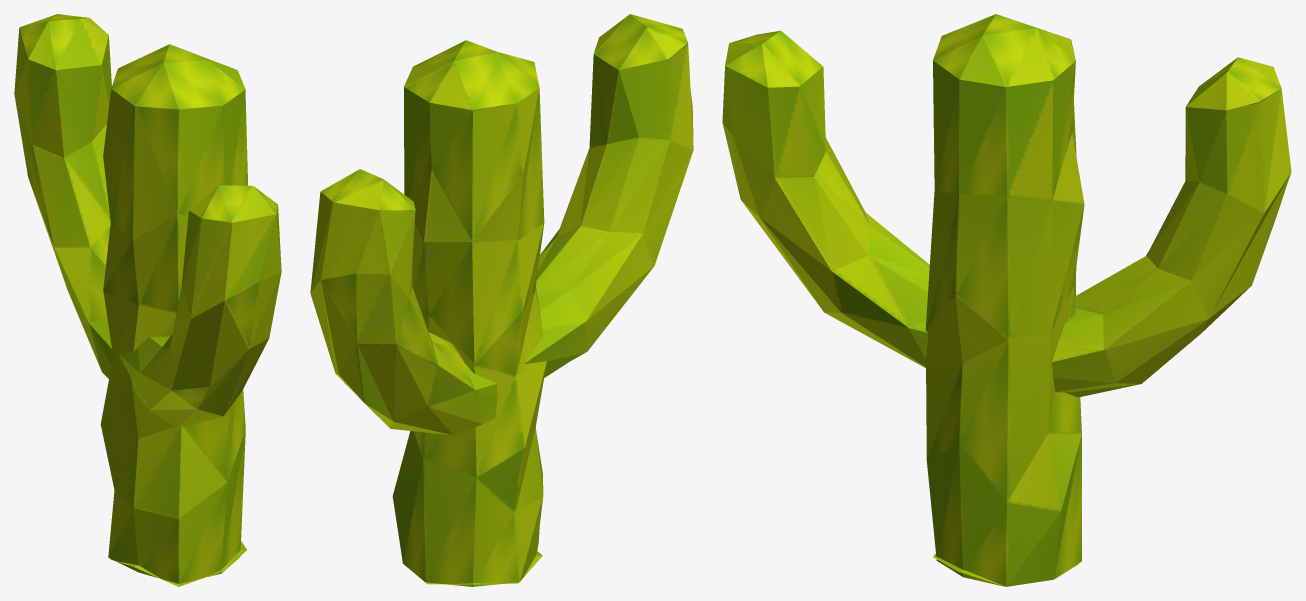
File: kaktus1.fbx
3 renders of one model, left to right at view 1: azimuth 30°, elevation 25°; view 2: azimuth 150°, elevation 25°; view 3: azimuth 270°, elevation 25°, orthographic. The views are drawn at different scales.
Visible parts, largest first — view 1: kaktus1_1; view 2: kaktus1_1; view 3: kaktus1_1.
Boxes of the visible parts, bbox=[...] form: kaktus1_1: bbox=[14, 14, 281, 586]; kaktus1_1: bbox=[310, 14, 693, 586]; kaktus1_1: bbox=[722, 14, 1291, 586].
Size of the model in its own units: 139 by 410 by 394.
